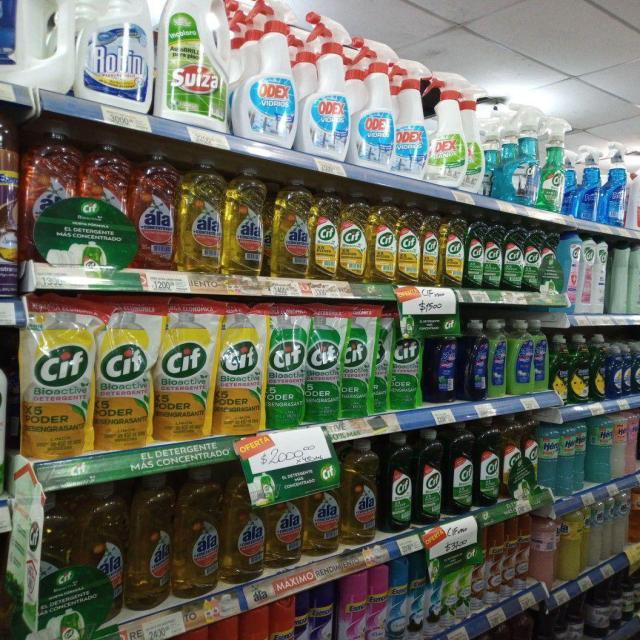ala_conc_amarillo: (126, 471, 172, 609), (174, 465, 220, 596), (177, 154, 222, 272), (223, 164, 266, 275), (222, 470, 264, 582), (270, 174, 310, 278), (342, 440, 379, 545), (267, 500, 302, 567), (304, 491, 340, 556)
ala_conc_rojo: (134, 144, 176, 271)
ala_crem_amarillo: (590, 500, 602, 567), (582, 503, 591, 568)
ala_crem_blanco: (603, 494, 613, 560)
ala_crem_rosado: (530, 512, 556, 582)
cif_conc_bot_amarilla: (368, 190, 397, 284), (339, 186, 367, 282), (312, 182, 338, 280), (398, 197, 420, 285), (442, 205, 464, 287), (420, 201, 440, 286)
cif_conc_botella_verde: (382, 432, 412, 533), (414, 428, 442, 524), (446, 423, 474, 514), (475, 420, 501, 508), (484, 213, 503, 290), (504, 218, 524, 290), (465, 210, 483, 288), (524, 222, 542, 291)
cif_conc_sachet_amarillo: (20, 293, 93, 460), (95, 298, 153, 449), (156, 296, 213, 441), (215, 303, 264, 434), (0, 327, 8, 487)
cif_conc_sachet_verde: (266, 303, 304, 428), (305, 303, 339, 422), (341, 304, 372, 418), (388, 312, 422, 410), (371, 306, 389, 413)
magistral_con_azul: (606, 343, 621, 397), (623, 344, 633, 395), (633, 342, 640, 395)
zorro: (463, 318, 487, 401), (507, 319, 532, 395), (487, 318, 506, 399), (533, 320, 549, 392)
